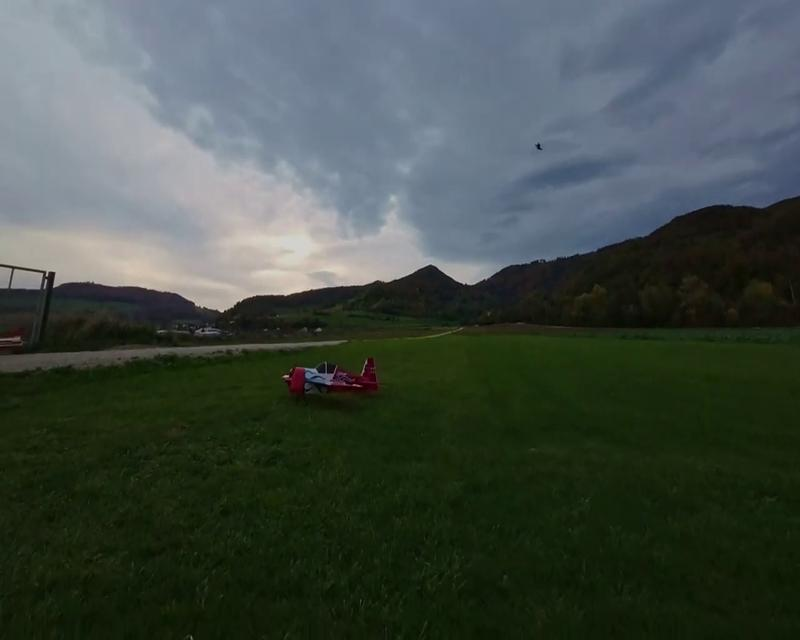UAV: (280, 356, 380, 406)
